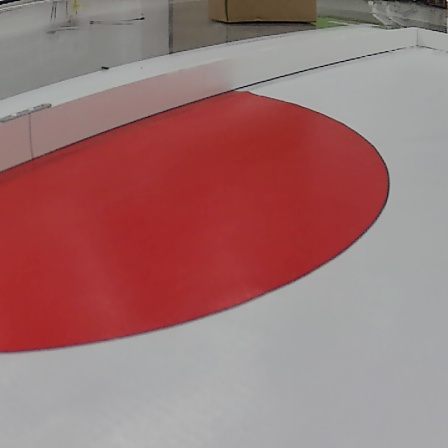red_base: (2, 86, 401, 353)
